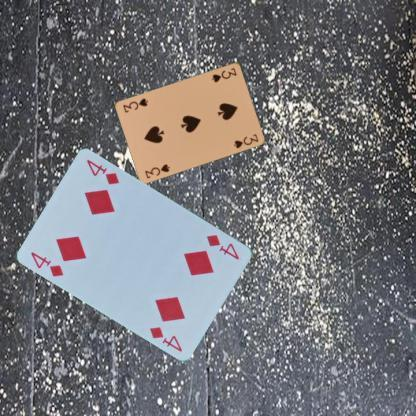3s: (209, 64, 238, 84), (142, 161, 172, 180)
4d: (204, 232, 241, 261), (29, 249, 66, 278)
